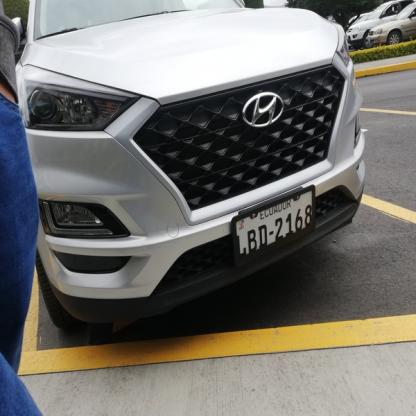Placa: (232, 184, 319, 262)
